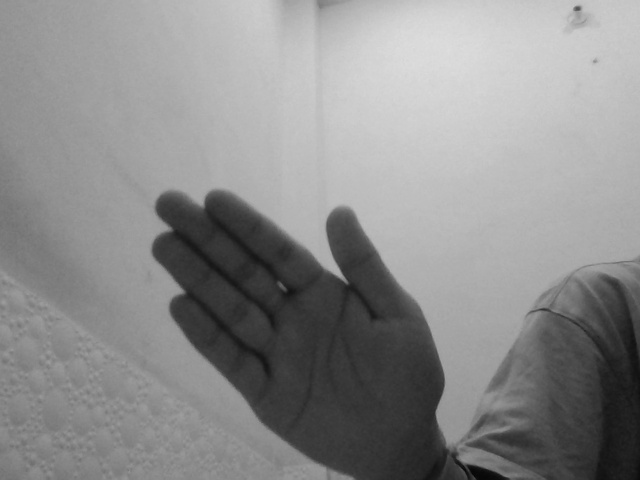Hello: (149, 186, 446, 473)
